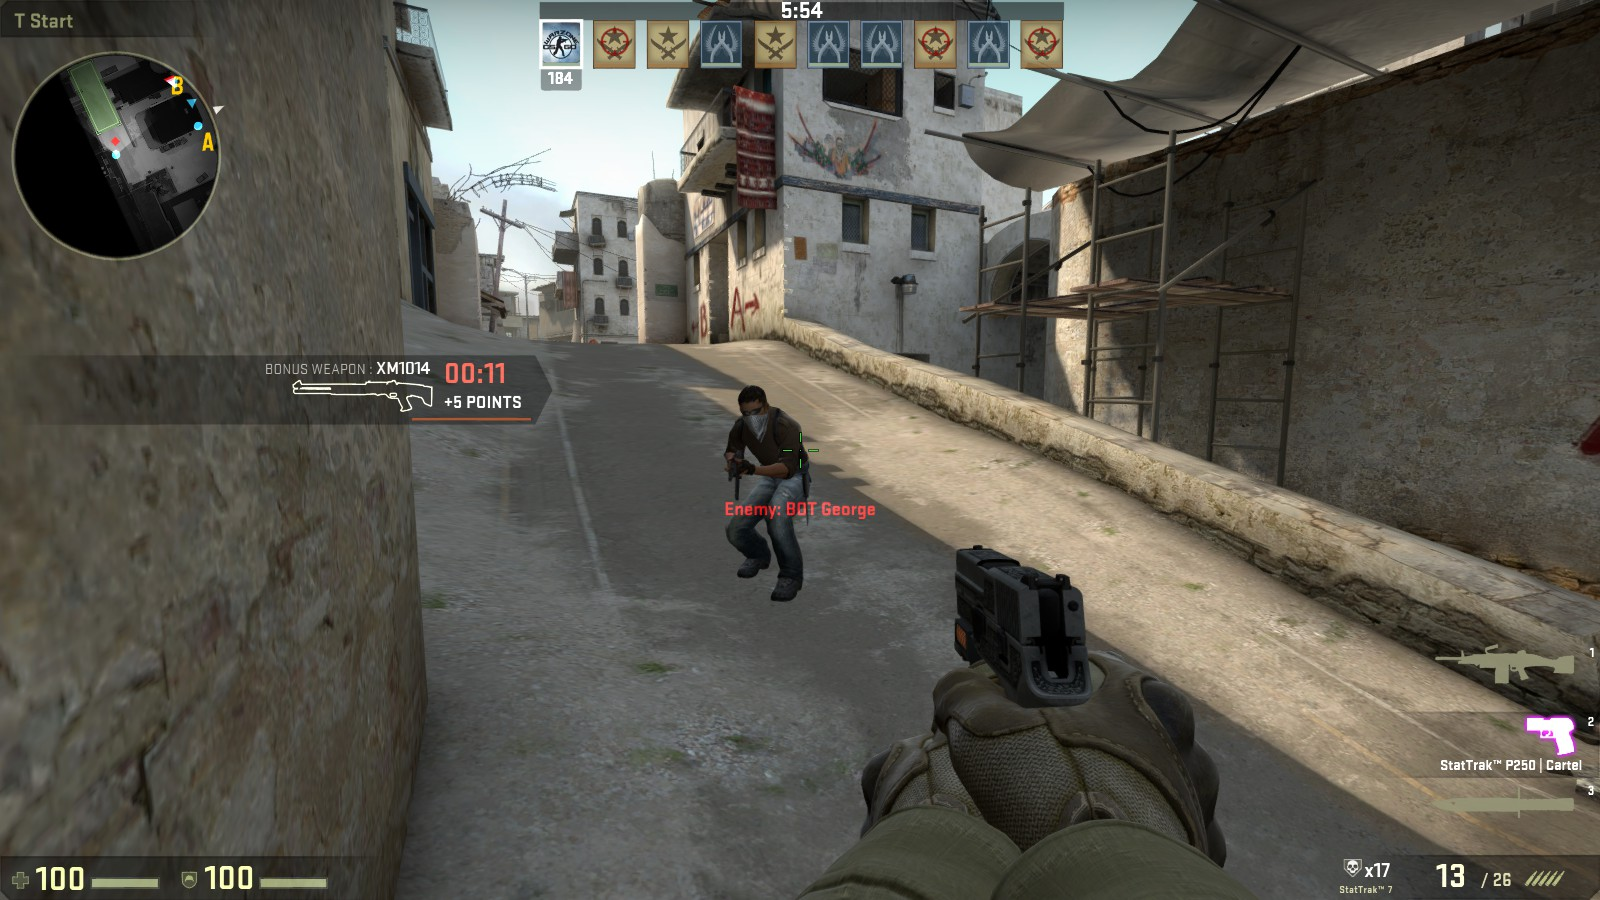t: (725, 382, 815, 599)
th: (733, 381, 773, 432)
